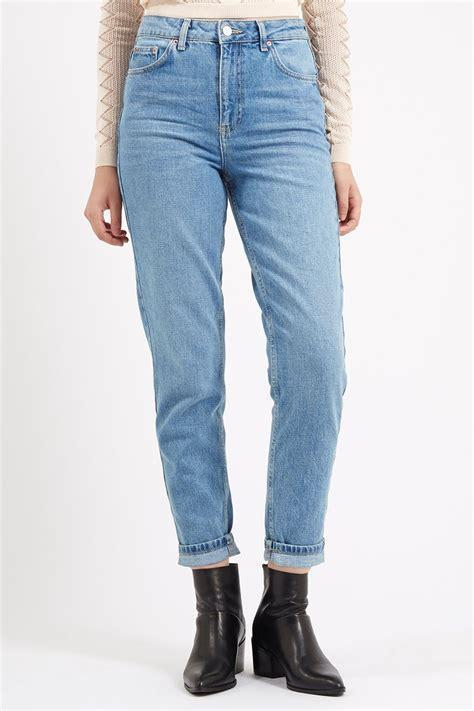pants: (117, 17, 346, 571)
